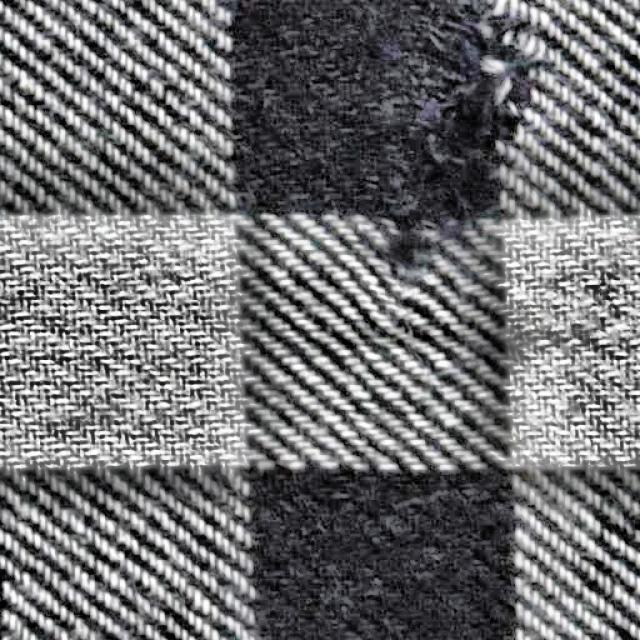selvet: (357, 1, 545, 260)
